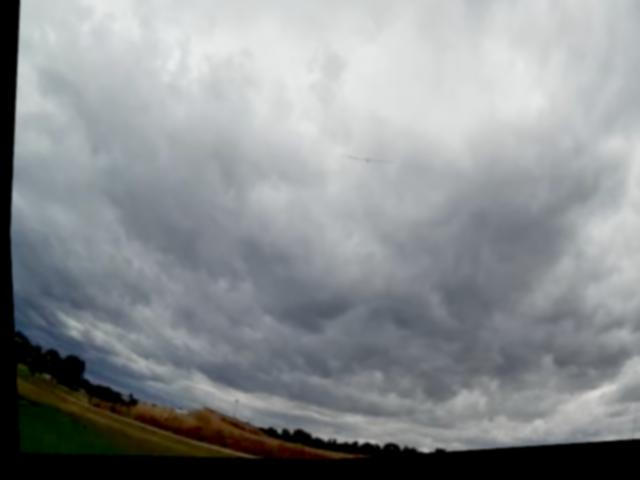uav: (334, 146, 397, 180)
